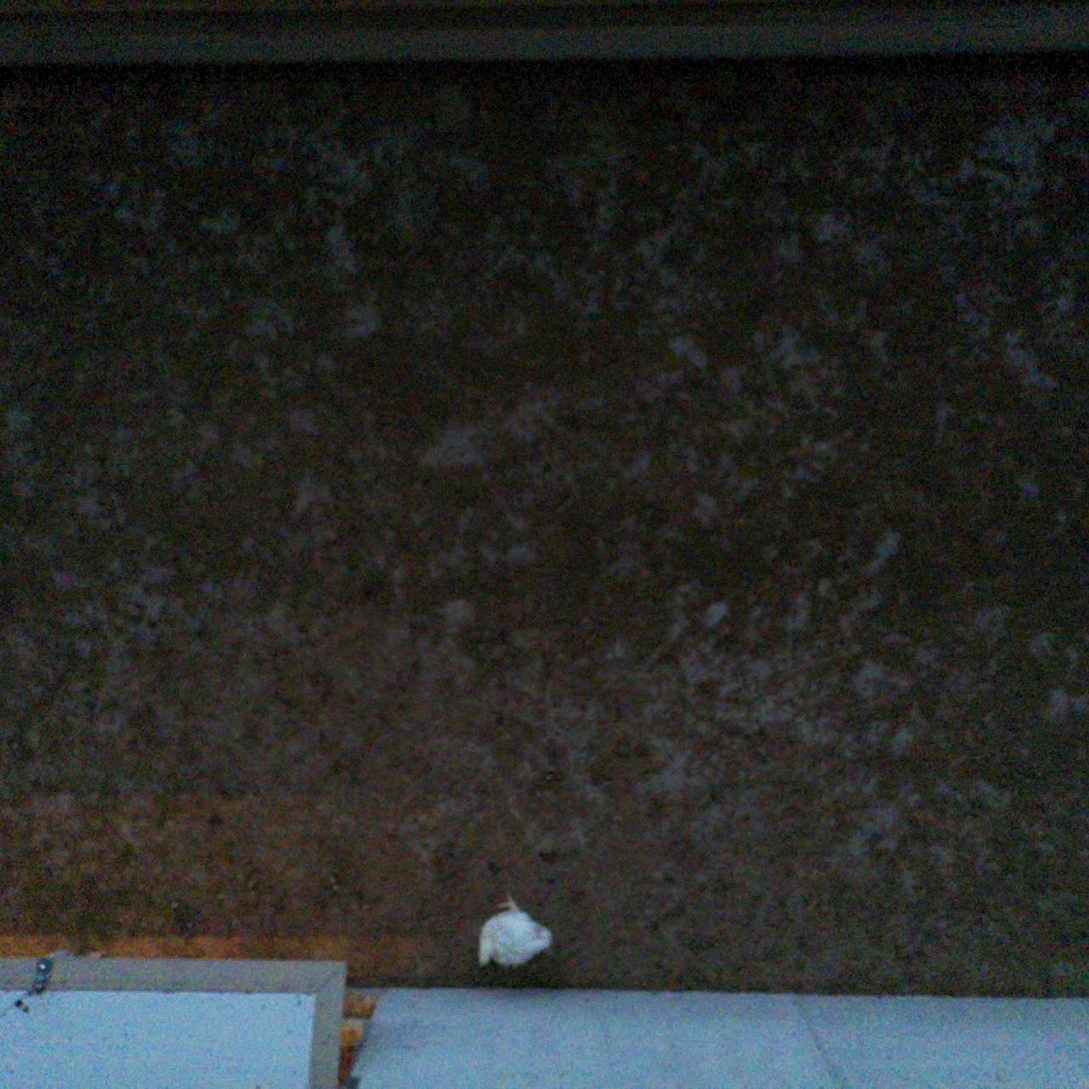chicken: (474, 892, 565, 973)
